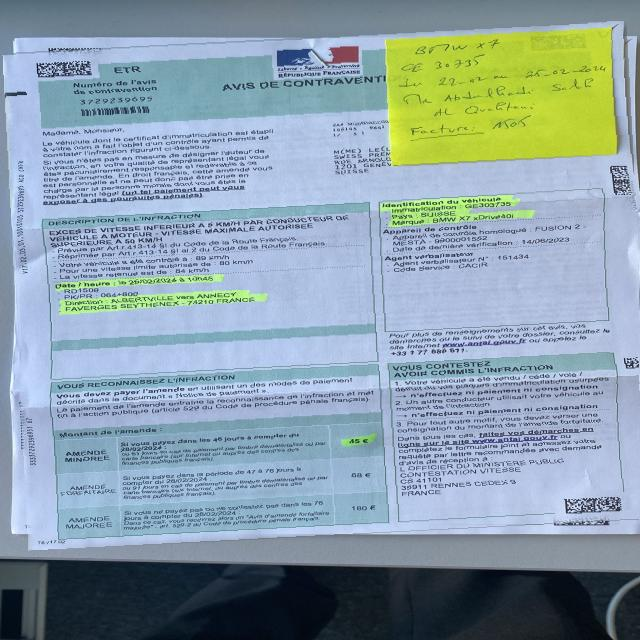paper-document-: (2, 22, 640, 551)
